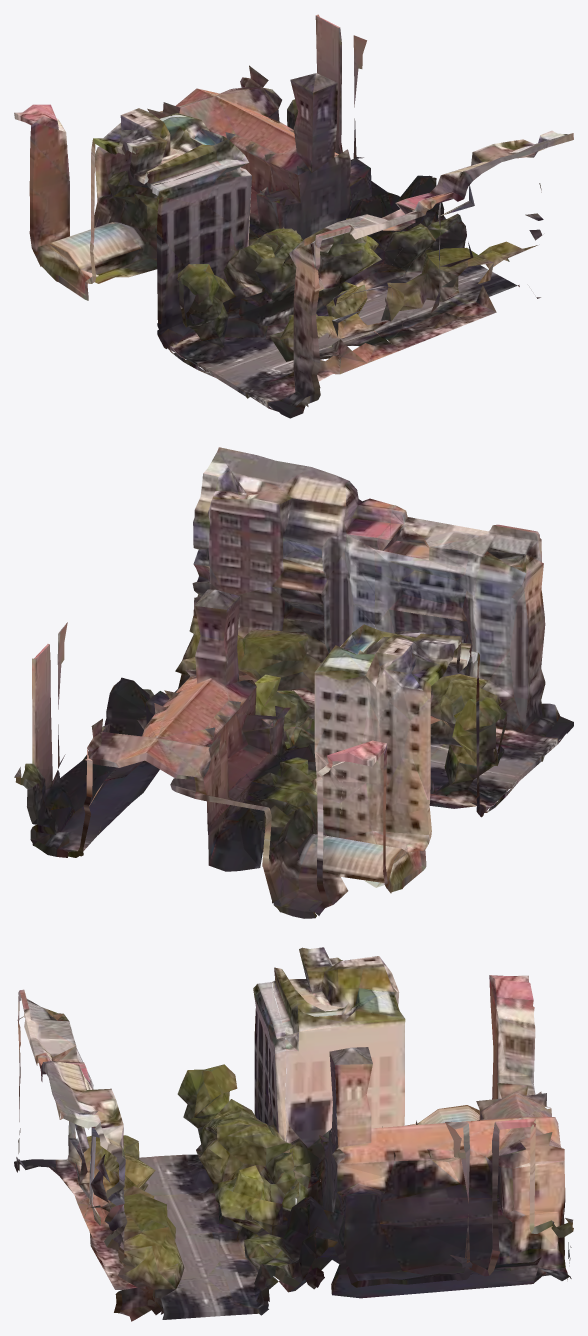
3 renders of one model, top to bottom at view 1: azimuth 30°, elevation 25°; view 2: azimuth 150°, elevation 25°; view 3: azimuth 270°, elevation 25°, orthographic. The views are drawn at different scales.
Visible parts, largest first — view 1: Mesh_0; view 2: Mesh_0; view 3: Mesh_0.
Part boxes in pixels (x1,y1,x2,y2): Mesh_0: [14, 14, 573, 418]; Mesh_0: [14, 447, 573, 918]; Mesh_0: [14, 947, 573, 1321].
Size of the model in its own units: 66.56 by 37.19 by 82.69.
Materials: 1 (1 with a texture image).
